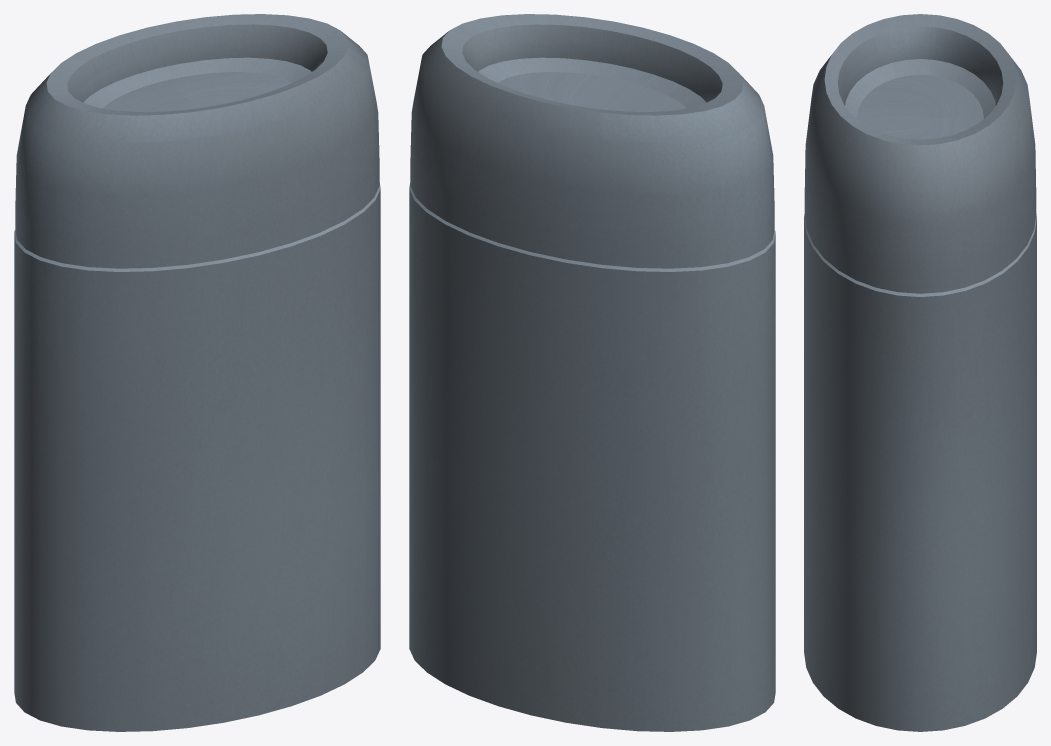
File: Cenicero.fbx
3 views of the same model, side by side, from view 1: azimuth 30°, elevation 25°; view 2: azimuth 150°, elevation 25°; view 3: azimuth 270°, elevation 25° (orthographic). The views are drawn at different scales.
Parts seen in each view (by area): view 1: Cenicero; view 2: Cenicero; view 3: Cenicero.
Boxes of the visible parts, left/top/right/bottom form: Cenicero: left=14, top=14, right=380, bottom=731; Cenicero: left=409, top=14, right=775, bottom=731; Cenicero: left=804, top=14, right=1036, bottom=731.
Bounding box in the file's own units: 60.2 × 101 × 37.15.
